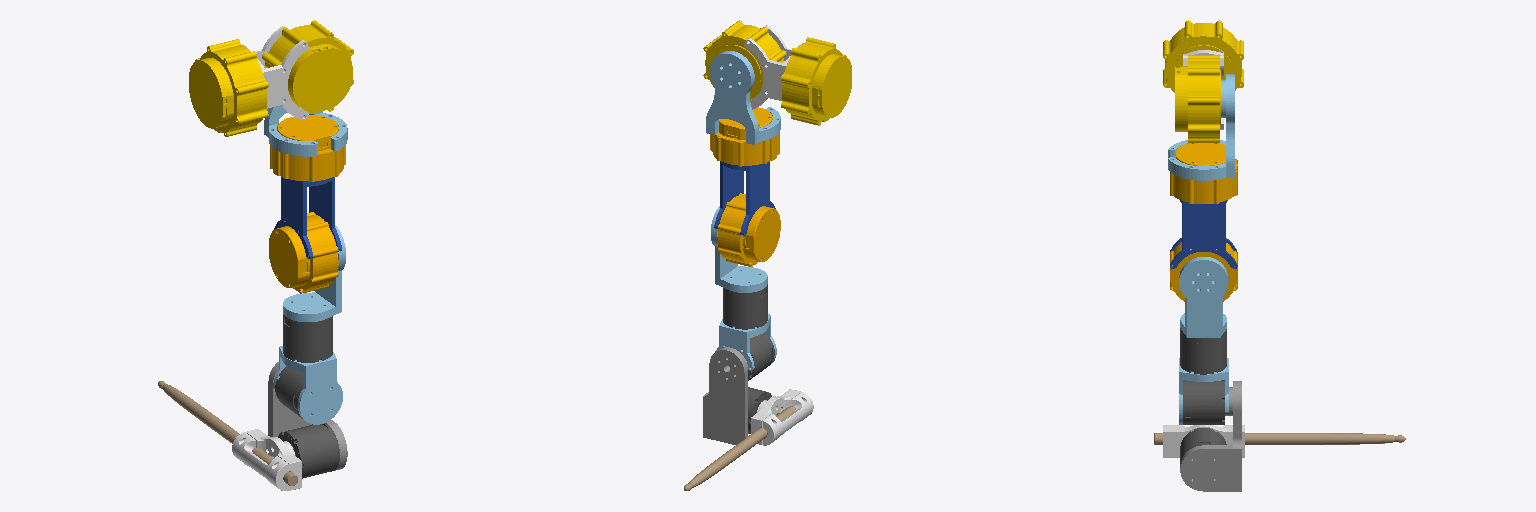
URDF robot description (right_arm_assembly):
<!--URDF generated by ONSHAPE BY PTC INC, 1.223-->
<robot name="right_arm_assembly">
    <link name="base">
        <!-- Measured 0.151 lb; CAD COM retained and inertia scaled with mass (uniform-density approximation). -->
        <inertial>
            <mass value="0.068492" />
            <origin xyz="-0.0156929 -2.64651e-09 1.77369e-08" rpy="0 -0 0" />
            <inertia ixx="6.16898e-05" ixy="1.24698e-11" ixz="4.83586e-12" iyy="1.15942e-05" iyz="3.60282e-12" izz="5.51056e-05" />
        </inertial>
        <visual>
            <origin xyz="-0.028239 -0.0947801 -0.163117" rpy="0 -0 0" />
            <geometry>
                <mesh filename="package://right_arm_assembly/meshes/Base.stl" scale="1 1 1" />
            </geometry>
            <material name="0.917647_0.917647_0.917647_0.000000_0.000000">
                <color rgba="0.917647 0.917647 0.917647 1" />
            </material>
        </visual>
    </link>
    <link name="drumstick">
        <!-- Measured 0.043 lb; CAD COM retained and inertia scaled with mass (uniform-density approximation). -->
        <inertial>
            <mass value="0.019504" />
            <origin xyz="6.07103e-10 0.0142285 0.163117" rpy="0 -0 0" />
            <inertia ixx="0.000132081" ixy="1.82212e-12" ixz="0" iyy="4.86742e-07" iyz="1.44418e-11" izz="0.000132081" />
        </inertial>
        <visual>
            <origin xyz="0 0 0" rpy="0 -0 0" />
            <geometry>
                <mesh filename="package://right_arm_assembly/meshes/Drumstick.stl" scale="1 1 1" />
            </geometry>
            <material name="0.721569_0.627451_0.517647_0.000000_0.000000">
                <color rgba="0.721569 0.627451 0.517647 1" />
            </material>
        </visual>
    </link>
    <link name="l1">
        <inertial>
            <mass value="0.130731" />
            <origin xyz="0.0177928 0.000249168 -1.69696e-16" rpy="0 -0 0" />
            <inertia ixx="9.81705e-05" ixy="1.36919e-07" ixz="0" iyy="9.27605e-05" iyz="0" izz="8.15329e-05" />
        </inertial>
        <visual>
            <origin xyz="-0.02225 -2.90566e-17 -1.9082e-17" rpy="0 -0 0" />
            <geometry>
                <mesh filename="package://right_arm_assembly/meshes/L1.stl" scale="1 1 1" />
            </geometry>
            <material name="0.917647_0.917647_0.917647_0.000000_0.000000">
                <color rgba="0.917647 0.917647 0.917647 1" />
            </material>
        </visual>
    </link>
    <link name="l2">
        <inertial>
            <mass value="0.226209" />
            <origin xyz="-3.95183e-08 -0.00153152 -0.0380168" rpy="0 -0 0" />
            <inertia ixx="0.000403703" ixy="2.98596e-10" ixz="-2.64205e-10" iyy="0.000421206" iyz="-9.86769e-05" izz="0.000215521" />
        </inertial>
        <visual>
            <origin xyz="-2.30545e-17 -0.02225 -0.0885" rpy="0 -0 0" />
            <geometry>
                <mesh filename="package://right_arm_assembly/meshes/L2.stl" scale="1 1 1" />
            </geometry>
            <material name="0.615686_0.811765_0.929412_0.000000_0.000000">
                <color rgba="0.615686 0.811765 0.929412 1" />
            </material>
        </visual>
    </link>
    <link name="l3">
        <inertial>
            <mass value="0.159893" />
            <origin xyz="4.996e-16 6.70335e-16 -0.0298904" rpy="0 -0 0" />
            <inertia ixx="0.00015523" ixy="0" ixz="0" iyy="0.000153328" iyz="0" izz="9.12128e-05" />
        </inertial>
        <visual>
            <origin xyz="-0.1 9.19403e-17 0.123" rpy="0 -0 0" />
            <geometry>
                <mesh filename="package://right_arm_assembly/meshes/L3.stl" scale="1 1 1" />
            </geometry>
            <material name="0.231373_0.380392_0.705882_0.000000_0.000000">
                <color rgba="0.231373 0.380392 0.705882 1" />
            </material>
        </visual>
    </link>
    <link name="l4">
        <inertial>
            <mass value="0.20773" />
            <origin xyz="8.85082e-17 0.000318922 -0.0354119" rpy="0 -0 0" />
            <inertia ixx="0.000276711" ixy="0" ixz="0" iyy="0.000268558" iyz="-6.13133e-05" izz="9.08837e-05" />
        </inertial>
        <visual>
            <origin xyz="-7.09598e-19 -5.20417e-18 -1.1328e-18" rpy="0 -0 0" />
            <geometry>
                <mesh filename="package://right_arm_assembly/meshes/L4.stl" scale="1 1 1" />
            </geometry>
            <material name="0.615686_0.811765_0.929412_0.000000_0.000000">
                <color rgba="0.615686 0.811765 0.929412 1" />
            </material>
        </visual>
    </link>
    <link name="l5">
        <inertial>
            <mass value="0.136962" />
            <origin xyz="2.0665e-16 -0.00551412 -0.0188697" rpy="0 -0 0" />
            <inertia ixx="0.000120144" ixy="0" ixz="0" iyy="8.6158e-05" iyz="-2.56777e-05" izz="9.25418e-05" />
        </inertial>
        <visual>
            <origin xyz="4.33681e-17 -6.07153e-18 0" rpy="0 -0 0" />
            <geometry>
                <mesh filename="package://right_arm_assembly/meshes/L5.stl" scale="1 1 1" />
            </geometry>
            <material name="0.615686_0.811765_0.929412_0.000000_0.000000">
                <color rgba="0.615686 0.811765 0.929412 1" />
            </material>
        </visual>
    </link>
    <link name="l6">
        <inertial>
            <mass value="0.293498" />
            <origin xyz="0.0109393 0.00387747 -0.0506507" rpy="0 -0 0" />
            <inertia ixx="0.000468852" ixy="5.74322e-05" ixz="7.80376e-05" iyy="0.000470579" iyz="-6.29456e-05" izz="0.000199554" />
        </inertial>
        <visual>
            <origin xyz="-0.1 -0.0258 0.405" rpy="0 -0 0" />
            <geometry>
                <mesh filename="package://right_arm_assembly/meshes/L6.stl" scale="1 1 1" />
            </geometry>
            <material name="0.647059_0.647059_0.647059_0.000000_0.000000">
                <color rgba="0.647059 0.647059 0.647059 1" />
            </material>
        </visual>
    </link>
    <link name="root" />
    <link name="rs00">
        <!-- RS00 catalog mass; CAD COM retained and inertia scaled with mass (uniform-density approximation). -->
        <inertial>
            <mass value="0.31" />
            <origin xyz="-2.64946e-10 3.45704e-07 -0.0252887" rpy="0 -0 0" />
            <inertia ixx="0.000128946117522" ixy="1.38310246427e-08" ixz="0" iyy="0.000128254901961" iyz="-1.96536432436e-09" izz="0.000125912718516" />
        </inertial>
        <visual>
            <origin xyz="-3.46945e-16 3.40006e-16 -0.0256" rpy="0 -0 0" />
            <geometry>
                <mesh filename="package://right_arm_assembly/meshes/RS00.stl" scale="1 1 1" />
            </geometry>
            <material name="0.400000_0.400000_0.400000_0.000000_0.000000">
                <color rgba="0.4 0.4 0.4 1" />
            </material>
        </visual>
    </link>
    <link name="rs00_1">
        <!-- RS00 catalog mass; CAD COM retained and inertia scaled with mass (uniform-density approximation). -->
        <inertial>
            <mass value="0.31" />
            <origin xyz="-2.64946e-10 3.45704e-07 -0.0252887" rpy="0 -0 0" />
            <inertia ixx="0.000128946117522" ixy="1.38310246427e-08" ixz="0" iyy="0.000128254901961" iyz="-1.96536432436e-09" izz="0.000125912718516" />
        </inertial>
        <visual>
            <origin xyz="-3.46945e-16 3.40006e-16 -0.0256" rpy="0 -0 0" />
            <geometry>
                <mesh filename="package://right_arm_assembly/meshes/RS00.stl" scale="1 1 1" />
            </geometry>
            <material name="0.400000_0.400000_0.400000_0.000000_0.000000">
                <color rgba="0.4 0.4 0.4 1" />
            </material>
        </visual>
    </link>
    <link name="rs00_2">
        <!-- RS00 catalog mass; CAD COM retained and inertia scaled with mass (uniform-density approximation). -->
        <inertial>
            <mass value="0.31" />
            <origin xyz="-2.64946e-10 3.45704e-07 -0.0252887" rpy="0 -0 0" />
            <inertia ixx="0.000128946117522" ixy="1.38310246427e-08" ixz="0" iyy="0.000128254901961" iyz="-1.96536432436e-09" izz="0.000125912718516" />
        </inertial>
        <visual>
            <origin xyz="-3.46945e-16 3.40006e-16 -0.0256" rpy="0 -0 0" />
            <geometry>
                <mesh filename="package://right_arm_assembly/meshes/RS00.stl" scale="1 1 1" />
            </geometry>
            <material name="0.400000_0.400000_0.400000_0.000000_0.000000">
                <color rgba="0.4 0.4 0.4 1" />
            </material>
        </visual>
    </link>
    <link name="rs03output">
        <inertial>
            <mass value="0.983563" />
            <origin xyz="-0.0184559 -0.0452701 -0.0247585" rpy="0 -0 0" />
            <inertia ixx="0.000746369" ixy="0" ixz="-1.54556e-06" iyy="0.000764755" iyz="0" izz="0.00105604" />
        </inertial>
        <visual>
            <origin xyz="-0.0187515 -0.0452701 0.0025" rpy="0 -0 0" />
            <geometry>
                <mesh filename="package://right_arm_assembly/meshes/rs03output.stl" scale="1 1 1" />
            </geometry>
            <material name="0.972549_0.819608_0.000000_0.000000_0.000000">
                <color rgba="0.972549 0.819608 0 1" />
            </material>
        </visual>
    </link>
    <link name="rs03output_1">
        <inertial>
            <mass value="0.983563" />
            <origin xyz="0.000295614 -2.67218e-17 -0.0272585" rpy="0 -0 0" />
            <inertia ixx="0.000746369" ixy="0" ixz="-1.54556e-06" iyy="0.000764755" iyz="0" izz="0.00105604" />
        </inertial>
        <visual>
            <origin xyz="0 0 0" rpy="0 -0 0" />
            <geometry>
                <mesh filename="package://right_arm_assembly/meshes/rs03output.stl" scale="1 1 1" />
            </geometry>
            <material name="0.972549_0.819608_0.000000_0.000000_0.000000">
                <color rgba="0.972549 0.819608 0 1" />
            </material>
        </visual>
    </link>
    <link name="rs06">
        <!-- RS06 catalog mass; CAD COM retained and inertia scaled with mass (uniform-density approximation). -->
        <inertial>
            <mass value="0.621" />
            <origin xyz="-0.0158929 0.0378787 -0.0102731" rpy="0 -0 0" />
            <inertia ixx="0.000359101165798" ixy="-3.18123584672e-10" ixz="-7.69392418329e-07" iyy="0.00036944903982" iyz="3.93146322139e-10" izz="0.000497356572444" />
        </inertial>
        <visual>
            <origin xyz="-0.01569 0.0378791 -0.033" rpy="0 -0 0" />
            <geometry>
                <mesh filename="package://right_arm_assembly/meshes/RS06.stl" scale="1 1 1" />
            </geometry>
            <material name="0.980392_0.713725_0.003922_0.000000_0.000000">
                <color rgba="0.980392 0.713726 0.00392157 1" />
            </material>
        </visual>
    </link>
    <link name="rs06_1">
        <!-- RS06 catalog mass; CAD COM retained and inertia scaled with mass (uniform-density approximation). -->
        <inertial>
            <mass value="0.621" />
            <origin xyz="-0.0158929 0.0378787 -0.0102731" rpy="0 -0 0" />
            <inertia ixx="0.000359101165798" ixy="-3.18123584672e-10" ixz="-7.69392418329e-07" iyy="0.00036944903982" iyz="3.93146322139e-10" izz="0.000497356572444" />
        </inertial>
        <visual>
            <origin xyz="-0.01569 0.0378791 -0.033" rpy="0 -0 0" />
            <geometry>
                <mesh filename="package://right_arm_assembly/meshes/RS06.stl" scale="1 1 1" />
            </geometry>
            <material name="0.980392_0.713725_0.003922_0.000000_0.000000">
                <color rgba="0.980392 0.713726 0.00392157 1" />
            </material>
        </visual>
    </link>
    <link name="screwon">
        <!-- Measured 0.065 lb; CAD COM retained and inertia scaled with mass (uniform-density approximation). -->
        <inertial>
            <mass value="0.029484" />
            <origin xyz="-0.00948618 0.0947801 0.163117" rpy="0 -0 0" />
            <inertia ixx="3.5301e-05" ixy="2.801e-12" ixz="7.19014e-12" iyy="2.42786e-06" iyz="-1.10347e-11" izz="3.40156e-05" />
        </inertial>
        <visual>
            <origin xyz="0 0 0" rpy="0 -0 0" />
            <geometry>
                <mesh filename="package://right_arm_assembly/meshes/ScrewOn.stl" scale="1 1 1" />
            </geometry>
            <material name="0.917647_0.917647_0.917647_0.000000_0.000000">
                <color rgba="0.917647 0.917647 0.917647 1" />
            </material>
        </visual>
    </link>
    <joint name="fastened_1" type="fixed">
        <origin xyz="0.0589985 0.01975 0.0452701" rpy="1.5708 4.92646e-16 3.14159" />
        <axis xyz="0 0 1" />
        <parent link="l1" />
        <child link="rs03output" />
    </joint>
    <joint name="fastened_2" type="fixed">
        <origin xyz="0.01569 -0.0601291 -0.0885" rpy="-1.38322e-16 -3.31436e-15 1.47794e-15" />
        <axis xyz="0 0 1" />
        <parent link="l2" />
        <child link="rs06_1" />
    </joint>
    <joint name="fastened_3" type="fixed">
        <origin xyz="-0.0165 -0.0378791 -0.09131" rpy="0 -1.5708 2.13885e-15" />
        <axis xyz="0 0 1" />
        <parent link="l3" />
        <child link="rs06" />
    </joint>
    <joint name="fastened_4" type="fixed">
        <origin xyz="4.12701e-16 -0.018 -0.0744" rpy="9.14971e-16 7.15027e-16 1.5708" />
        <axis xyz="0 0 1" />
        <parent link="l4" />
        <child link="rs00_1" />
    </joint>
    <joint name="fastened_5" type="fixed">
        <origin xyz="5.55112e-17 -0.0256 -0.0492" rpy="1.5708 -2.05087e-16 -1.84267e-15" />
        <axis xyz="0 0 1" />
        <parent link="l5" />
        <child link="rs00" />
    </joint>
    <joint name="fastened_6" type="fixed">
        <origin xyz="0.0256 -0.0258 -0.075" rpy="0 1.5708 6.66134e-16" />
        <axis xyz="0 0 1" />
        <parent link="l6" />
        <child link="rs00_2" />
    </joint>
    <joint name="fixed_node_to_root_joint" type="fixed">
        <origin xyz="0.02225 3.2664e-17 6.93889e-18" rpy="0 1.5708 -0" />
        <axis xyz="0 0 1" />
        <parent link="root" />
        <child link="rs03output_1" />
    </joint>
    <joint name="group_1_fastened_joint" type="fixed">
        <origin xyz="-0.028239 -0.0947801 -0.163117" rpy="9.86076e-32 -4.17805e-64 8.47409e-33" />
        <axis xyz="-0 -0 -1" />
        <parent link="base" />
        <child link="screwon" />
    </joint>
    <joint name="group_1_fastened_joint_1" type="fixed">
        <origin xyz="6.93889e-18 1.38778e-17 0" rpy="9.86076e-32 -4.17805e-64 8.47409e-33" />
        <axis xyz="-0 -0 -1" />
        <parent link="screwon" />
        <child link="drumstick" />
    </joint>
    <joint name="revolute_1" type="continuous">
        <origin xyz="1.73472e-18 -3.60736e-18 3.46945e-18" rpy="0 -1.5708 0" />
        <axis xyz="-1 0 0" />
        <parent link="rs03output_1" />
        <child link="l1" />
        <limit effort="60" velocity="20.4203522483337" />
    </joint>
    <joint name="revolute_2" type="revolute">
        <origin xyz="-0.0187515 -0.0452701 0.0025" rpy="1.5708 2.01225e-15 3.14159" />
        <axis xyz="-2.46323e-16 -1 -2.77556e-17" />
        <parent link="rs03output" />
        <child link="l2" />
        <limit lower="-0.3490658503988659" upper="3.490658503988659" effort="60" velocity="20.4203522483337" />
    </joint>
    <joint name="revolute_3" type="continuous">
        <origin xyz="-0.01569 0.0378791 -0.0345" rpy="-4.01826e-30 -3.9443e-31 -2.62743e-46" />
        <axis xyz="0 0 1" />
        <parent link="rs06_1" />
        <child link="l3" />
        <limit effort="36" velocity="50.2654824574367" />
    </joint>
    <joint name="revolute_4" type="revolute">
        <origin xyz="-0.01569 0.0378791 -0.0345" rpy="-1.5708 -3.9968e-15 -1.5708" />
        <axis xyz="3.88578e-15 -1 -1.45717e-15" />
        <parent link="rs06" />
        <child link="l4" />
        <limit lower="-2.356194490192345" upper="2.356194490192345" effort="36" velocity="50.2654824574367" />
    </joint>
    <joint name="revolute_5" type="continuous">
        <origin xyz="-3.747e-16 3.46945e-16 -0.0514" rpy="2.5771e-16 -8.82182e-16 5.37009e-16" />
        <axis xyz="0 0 1" />
        <parent link="rs00_1" />
        <child link="l5" />
        <limit effort="14" velocity="32.9867228626928" />
    </joint>
    <joint name="revolute_6" type="revolute">
        <origin xyz="-3.60822e-15 -1.72085e-15 -0.0514" rpy="-1.5708 -1.80521e-15 -9.03703e-15" />
        <axis xyz="0 -1 0" />
        <parent link="rs00" />
        <child link="l6" />
        <limit lower="-1.5707963267948966" upper="0.8726646259971648" effort="14" velocity="32.9867228626928" />
    </joint>
    <joint name="revolute_7" type="revolute">
        <origin xyz="-1.66533e-16 1.74905e-16 -0.0514" rpy="0 -1.5708 3.14159" />
        <axis xyz="-1 0 0" />
        <parent link="rs00_2" />
        <child link="base" />
        <limit lower="-1.2217304763960306" upper="1.2217304763960306" effort="14" velocity="32.9867228626928" />
    </joint>
</robot>

--- Facts derived from the render (not from the file) ---
Views: 3 orthographic renders of the robot side by side, from view 1: azimuth 30°, elevation 25°; view 2: azimuth 150°, elevation 25°; view 3: azimuth 270°, elevation 25°.
Robot: right_arm_assembly — 17 links, 16 joints (4 revolute, 3 continuous, 9 fixed); root link root; default pose: all joints at 0.
Links seen in each view (by area): view 1: rs03output_1, rs03output, rs06, rs06_1, l3, l5, rs00_2, rs00_1, l4, l1, l2, l6 (+4 smaller); view 2: rs03output_1, l6, l2, rs06, rs06_1, l3, rs03output, rs00_1, l4, l1, drumstick, l5 (+3 smaller); view 3: rs03output, l4, l6, rs03output_1, rs06_1, l3, l2, drumstick, rs00, rs00_1, rs06, base (+2 smaller).
Link boxes in pixels (x1,y1,x2,y2): rs03output_1: (189, 39, 268, 136); rs03output: (262, 20, 353, 116); rs06: (269, 212, 338, 293); rs06_1: (270, 115, 345, 181); l3: (274, 177, 341, 258); l5: (273, 346, 342, 424); rs00_2: (278, 423, 339, 478); rs00_1: (283, 314, 332, 362); l4: (283, 225, 345, 321); l1: (256, 26, 308, 119); l2: (264, 105, 347, 156); l6: (268, 362, 347, 470); rs03output_1: (781, 37, 851, 125); l6: (703, 347, 747, 444); l2: (706, 51, 780, 144); rs06: (718, 193, 780, 266); rs06_1: (710, 107, 779, 166); l3: (714, 161, 775, 235); rs03output: (703, 20, 786, 99); rs00_1: (723, 284, 767, 329); l4: (711, 206, 767, 292); l1: (744, 25, 790, 109); drumstick: (684, 406, 794, 490); l5: (715, 314, 776, 370); rs03output: (1175, 55, 1221, 142); l4: (1179, 257, 1228, 337); l6: (1180, 381, 1241, 491); rs03output_1: (1163, 20, 1243, 92); rs06_1: (1170, 143, 1237, 203); l3: (1170, 200, 1237, 268); l2: (1168, 74, 1234, 180); drumstick: (1154, 433, 1405, 444); rs00: (1183, 380, 1224, 424); rs00_1: (1180, 328, 1226, 374); rs06: (1170, 242, 1237, 301); base: (1163, 425, 1244, 457).
Bounding box of the posed robot: 0.1836 × 0.3048 × 0.5578 m (x, y, z).
Meshes: 12 distinct files referenced, 16 mesh visuals loaded (12 binary STL).
